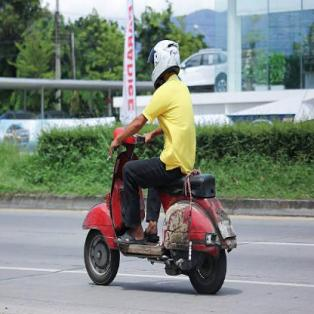Motocicleta: (82, 122, 230, 295)
